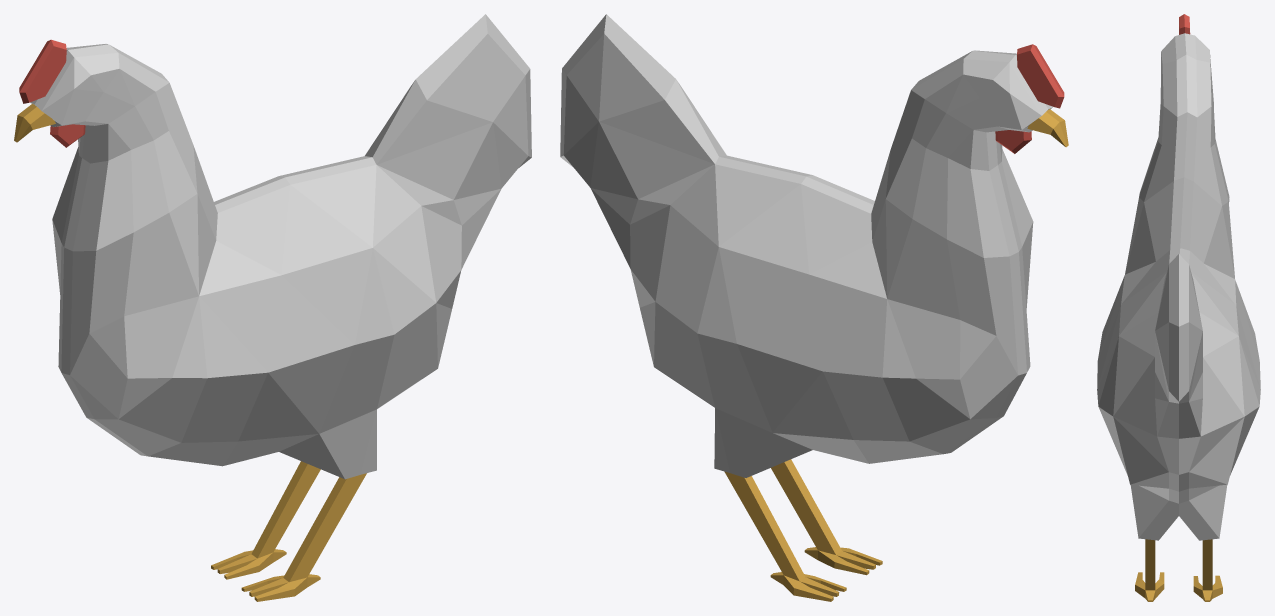
Rendered from hen_4.fbx.
The picture shows the model from 3 angles, left to right: view 1: azimuth 30°, elevation 25°; view 2: azimuth 150°, elevation 25°; view 3: azimuth 270°, elevation 25°; orthographic projection. The views are drawn at different scales.
Visible parts, largest first — view 1: Body, Feet, Top, Beak; view 2: Body, Feet, Top, Beak; view 3: Body, Feet.
Boxes of the visible parts, box(x1,y1,x2,y2) form: Body: box(30, 14, 531, 479); Feet: box(211, 461, 366, 601); Top: box(19, 39, 66, 103); Beak: box(14, 104, 55, 142); Body: box(560, 14, 1052, 477); Feet: box(724, 459, 882, 601); Top: box(1017, 44, 1064, 108); Beak: box(1027, 109, 1068, 147); Body: box(1097, 33, 1260, 540); Feet: box(1135, 539, 1222, 601).
Bounding box in the file's own units: 0.7017 × 2.33 × 2.12.
